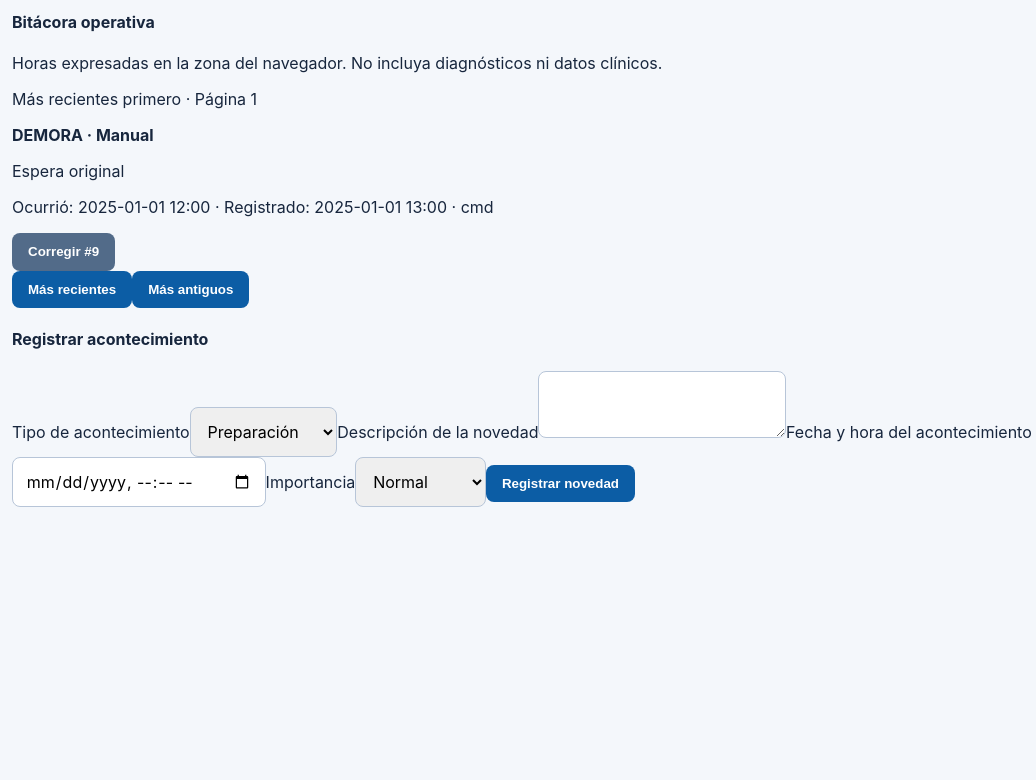
bitácora envía una corrección con motivo y conserva el original
This screenshot has width=1036, height=780.
Expected: the text "Espera original" is shown, [12,161,124,181]
Click the button "Corregir #9". click: click(64, 252)
box: [12,233,115,271]
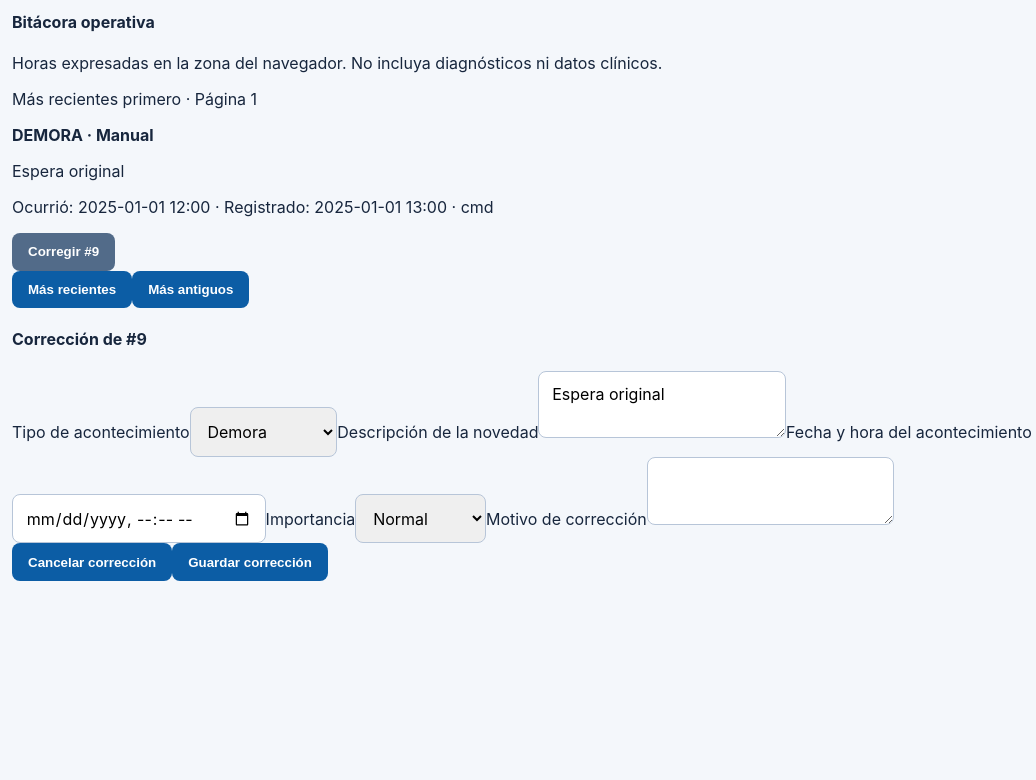
Replace the text in the text box labelled "Descripción de la novedad" with "Espera corregida". click: (662, 404)
box: [538,370,786,438]
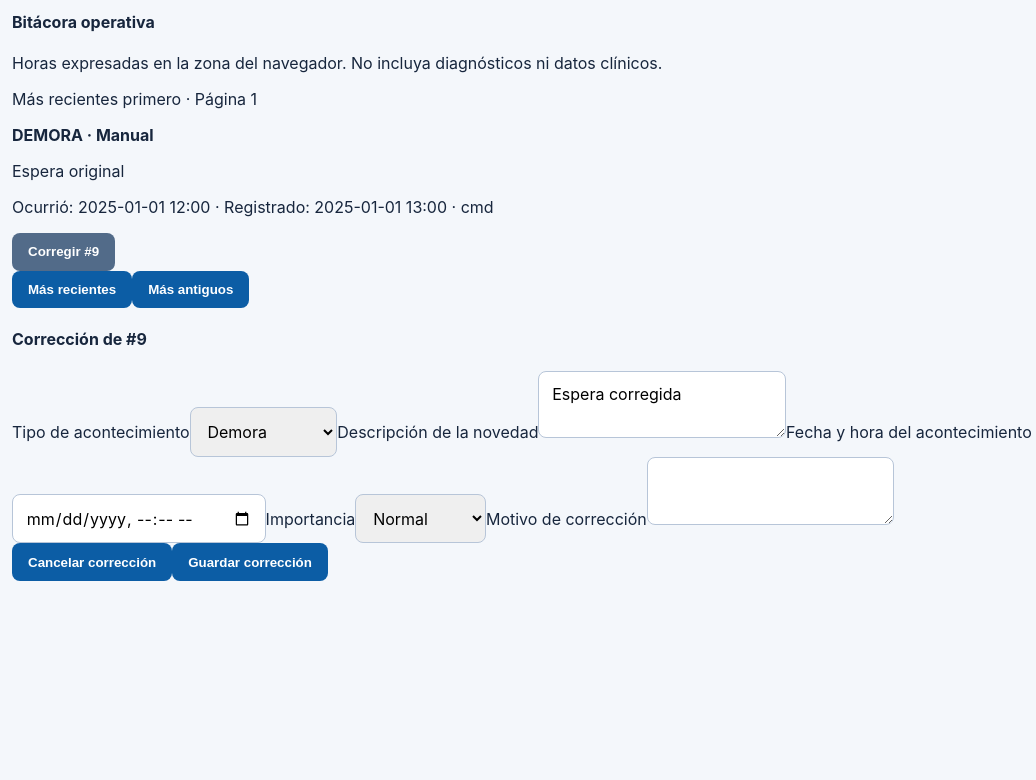
Type "2025-01-01T12:00" into the field labelled "Fecha y hora del acontecimiento". click: (139, 518)
box: [12,494,266,543]
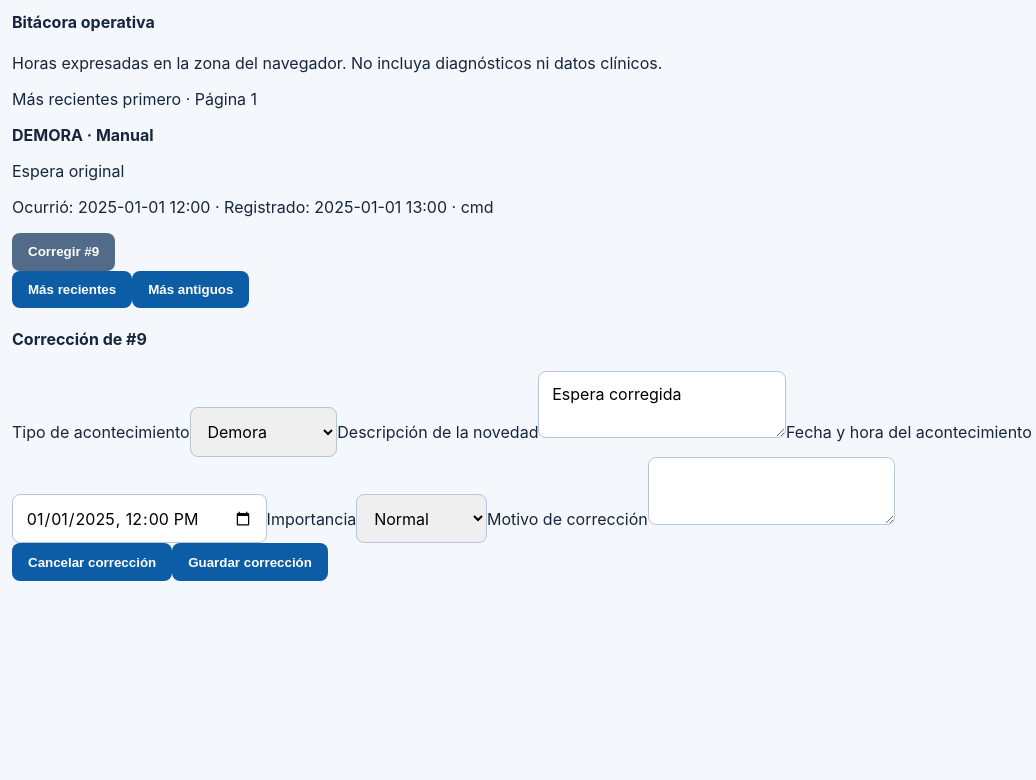
Type "Hora incorrecta" into the text box labelled "Motivo de corrección". click: (772, 491)
box: [648,457,895,524]
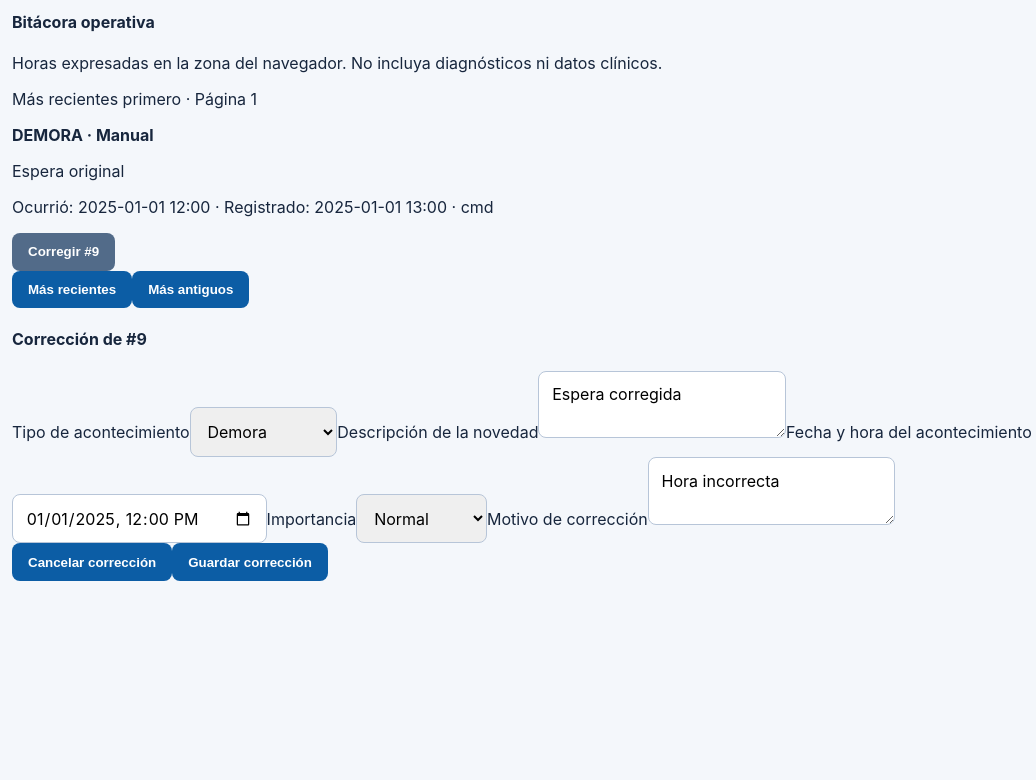
Click the button "Guardar corrección". click: click(250, 562)
box: [172,543,328,581]
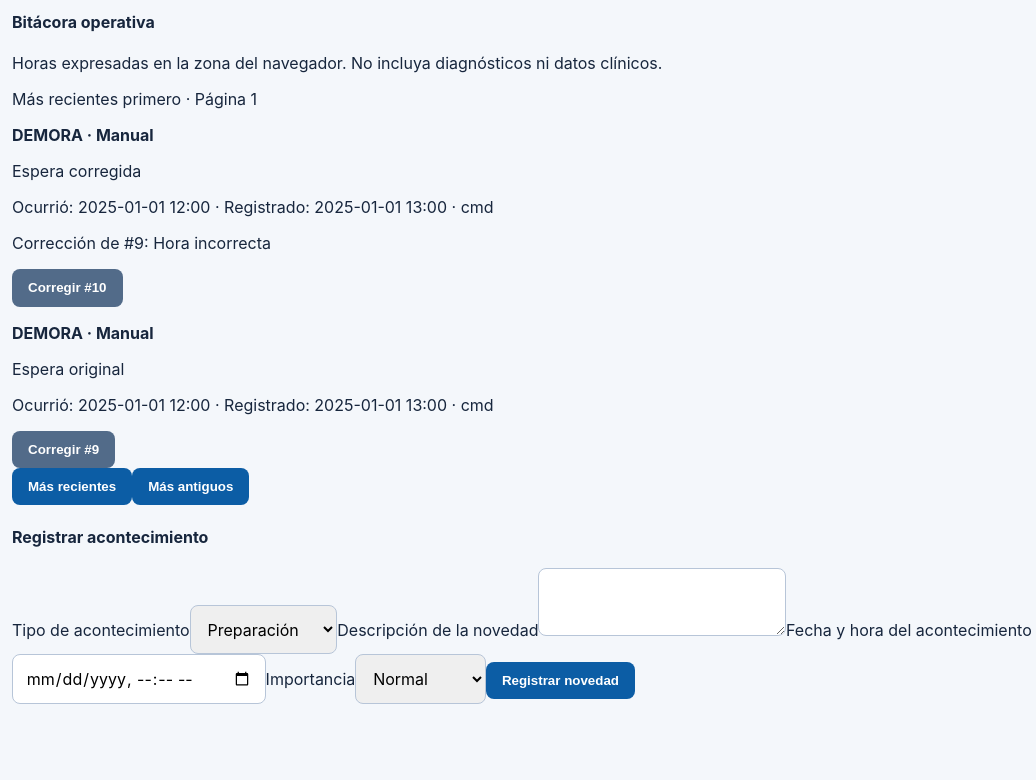
Expected: the text "Espera original" is shown, [12,359,124,379]
Now the text "Espera corregida" is shown, box [12,161,141,181]
Now the text "Corrección de #9: Hora incorrecta" is shown, box [12,233,271,253]
